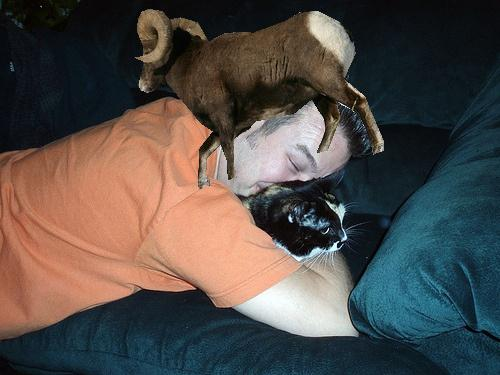tampered: (136, 10, 384, 189)
